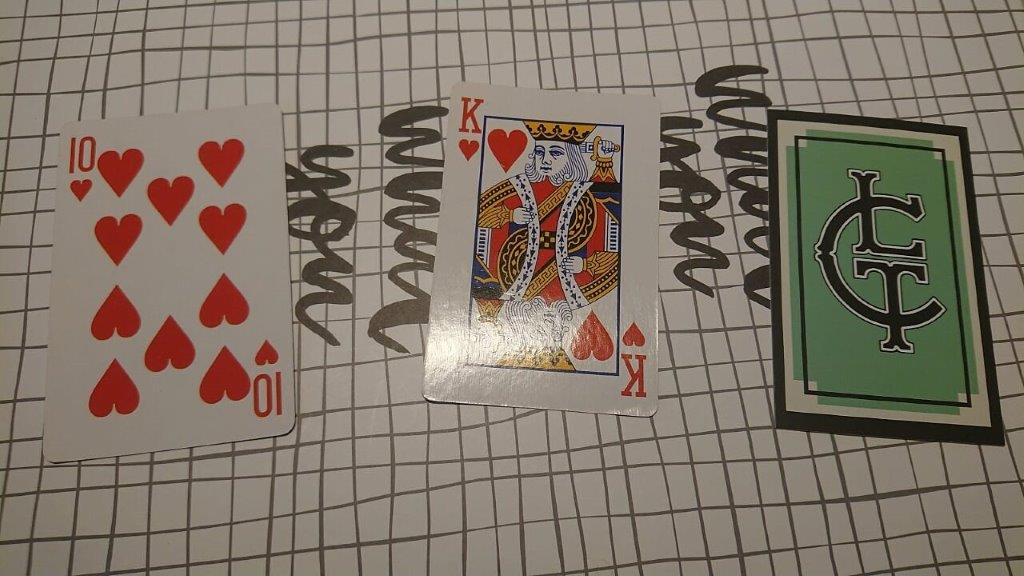10H: (63, 131, 98, 205)
KH: (453, 90, 486, 164)
